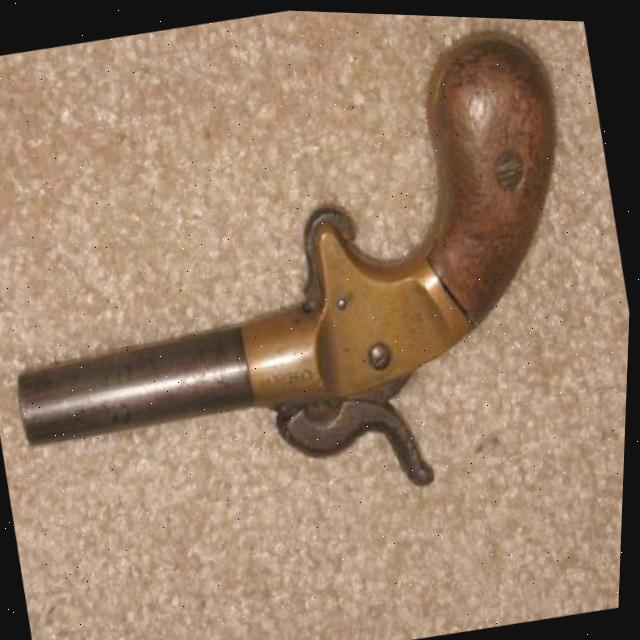gun: (0, 7, 622, 567)
